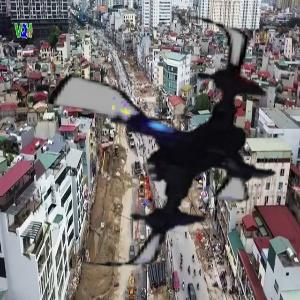drone: (20, 4, 299, 283)
